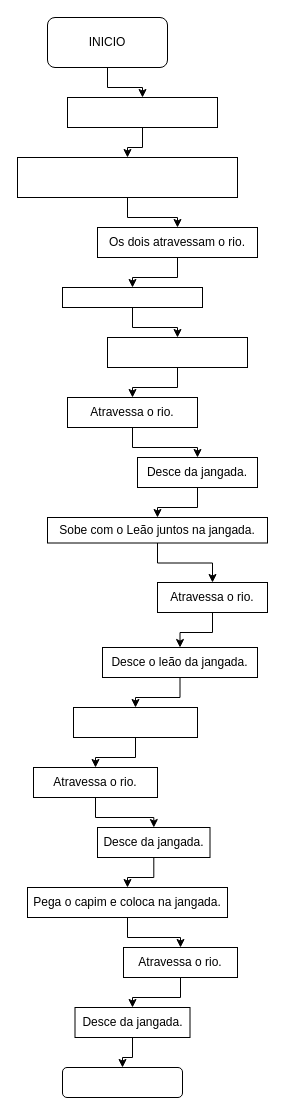
Some shapes in this 285 by 1115 pixel diagram are drawn without their labels. The centre of each missing label's shape, as x and y in pixels:
"Ele desce a cabra." goes at point 132,297.
"Ele sobe a jangada." goes at point 135,722.
"Ele sobe na jangada." goes at point 177,352.
"FIM" goes at point 122,1082.
"O Homem pega a jangada." goes at point 142,112.
"Sobe com a Cabra juntos na jangada." goes at point 127,177.
